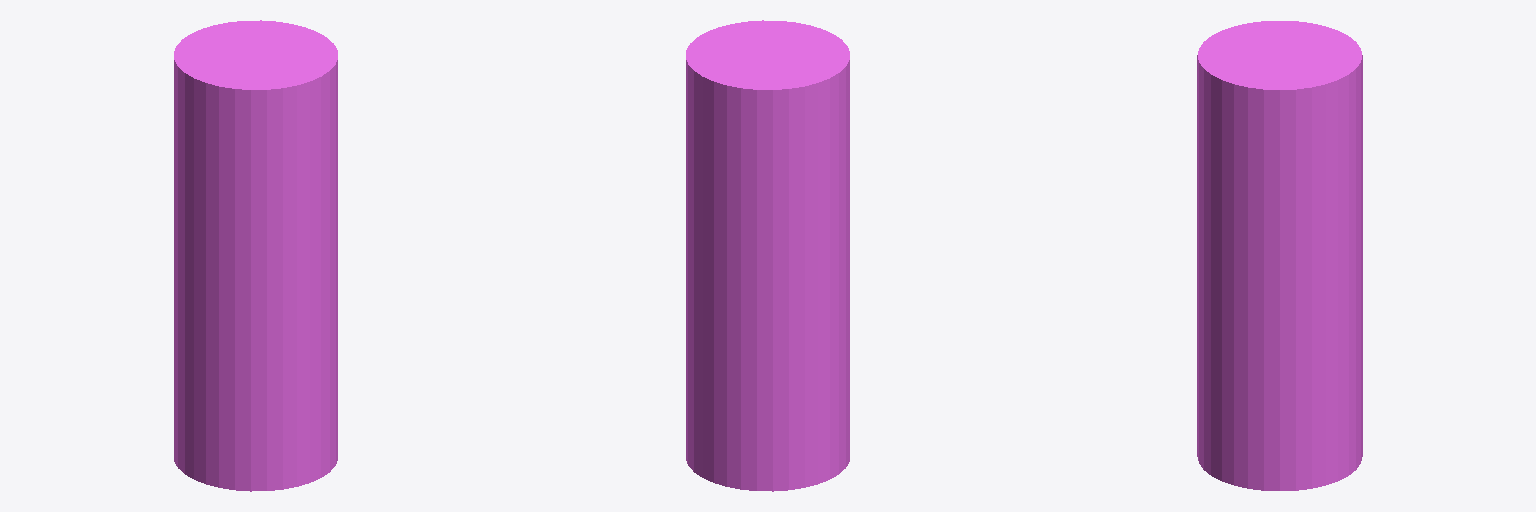
URDF robot description (waterbottle):
<?xml version="0.0" ?>
<robot name="waterbottle">
  <link name="bottleBody">
    <inertial>
      <origin rpy="0 0 0" xyz="0 0 0"/>
       <mass value="1.0"/>
       <inertia ixx="1" ixy="0" ixz="0" iyy="1" iyz="0" izz="1"/>
    </inertial>
    <visual>
      <origin rpy="0 0 0" xyz="0 0 0.11"/>
      <geometry>
		    <cylinder radius="0.041" length="0.22"/>
      </geometry>
       <material name="white">
        <color rgba="1 0.5 1 1"/>
      </material>
    </visual>
    <collision>
      <origin rpy="0 0 0" xyz="0 0 0.11"/>
      <geometry>
	 	    <cylinder radius="0.041" length="0.22"/>
      </geometry>
    </collision>
  </link>
</robot>

--- Facts derived from the render (not from the file) ---
The picture shows the robot from 3 angles, left to right: view 1: azimuth 30°, elevation 25°; view 2: azimuth 150°, elevation 25°; view 3: azimuth 270°, elevation 25°; orthographic projection.
Robot: waterbottle — 1 links, 0 joints (none); root link bottleBody; default pose: every joint at zero.
Links seen in each view (by area): view 1: bottleBody; view 2: bottleBody; view 3: bottleBody.
Link boxes in pixels (left/top/right/bottom): bottleBody: left=174, top=20, right=337, bottom=491; bottleBody: left=686, top=20, right=849, bottom=491; bottleBody: left=1197, top=21, right=1362, bottom=490.
Size in the robot's own frame: 0.082 by 0.082 by 0.22 metres.
Geometry: primitives only (box / cylinder / sphere), no mesh files.